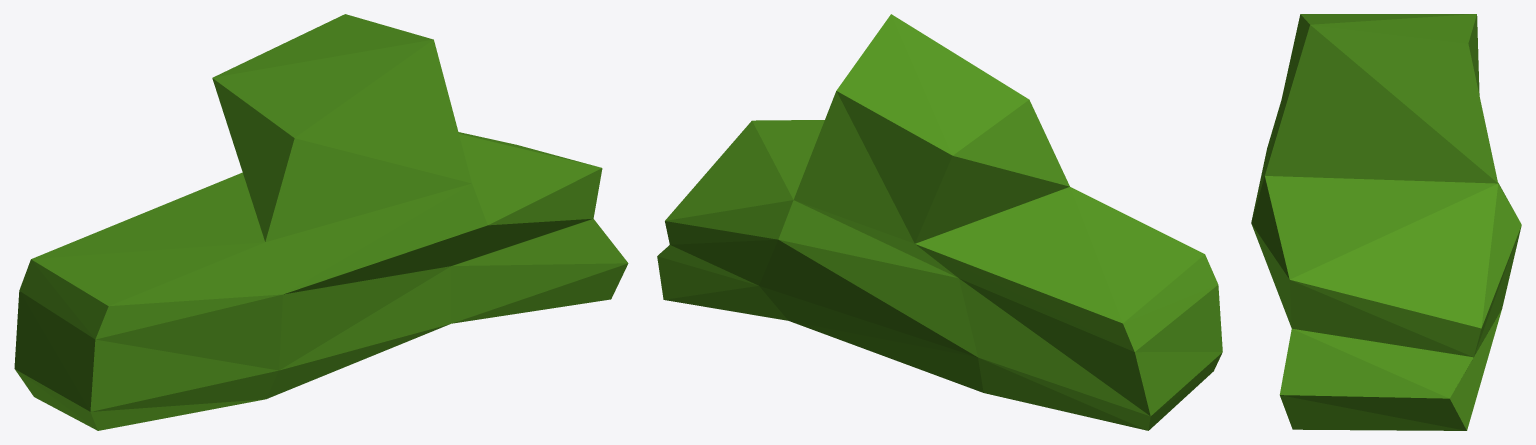
Rendered from SpaceInvadersNavetta.fbx.
3 views of the same model, side by side, from view 1: azimuth 30°, elevation 25°; view 2: azimuth 150°, elevation 25°; view 3: azimuth 270°, elevation 25° (orthographic). The views are drawn at different scales.
Visible parts, largest first — view 1: pCube1; view 2: pCube1; view 3: pCube1.
Boxes of the visible parts, x1,y1,x2,y2 form: pCube1: (14, 14, 628, 430); pCube1: (657, 14, 1222, 430); pCube1: (1251, 14, 1521, 430).
Size of the model in its own units: 3.75 by 2.14 by 1.53.
